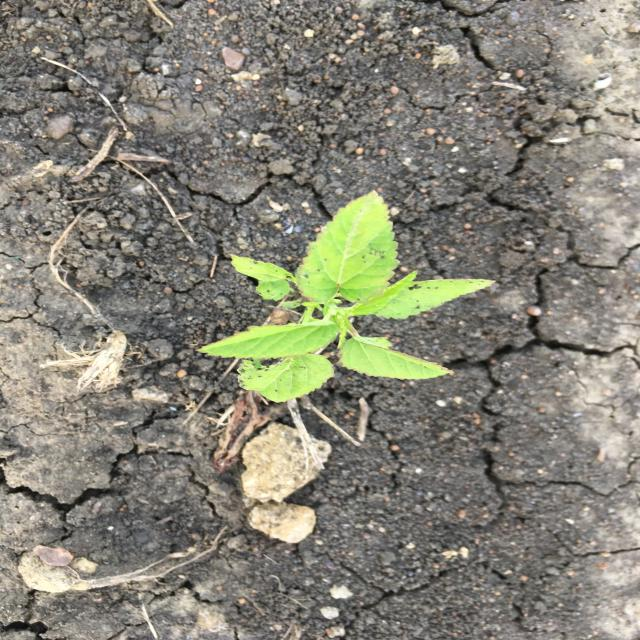PricklySida: (193, 188, 499, 404)
